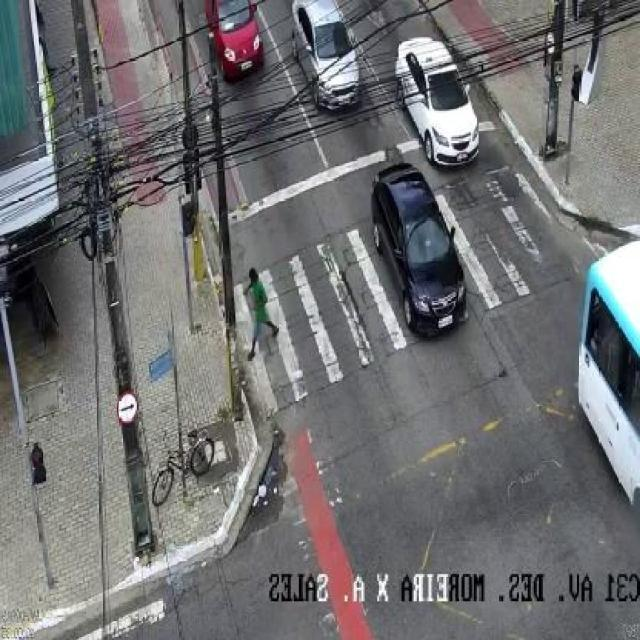Bus: (574, 230, 640, 508)
Car: (371, 161, 470, 337), (391, 31, 485, 170), (282, 0, 364, 110), (199, 0, 269, 81), (639, 490, 640, 639)
Cycle: (148, 425, 218, 507)
